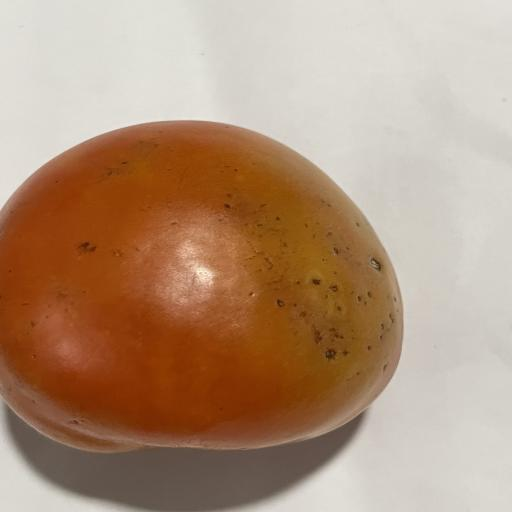ripe: (0, 121, 403, 452)
